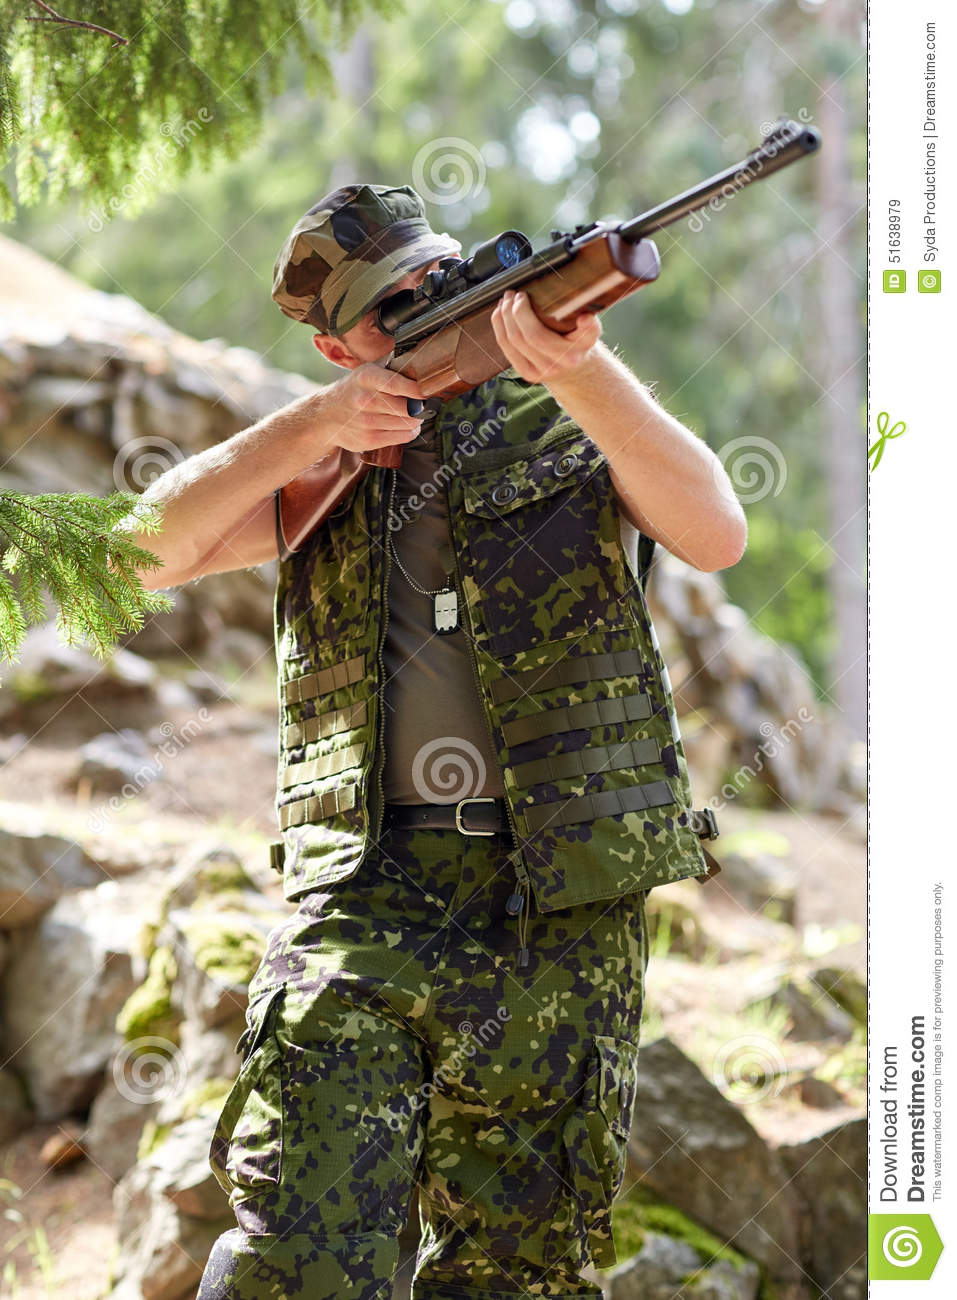Gun: (462, 111, 848, 414)
